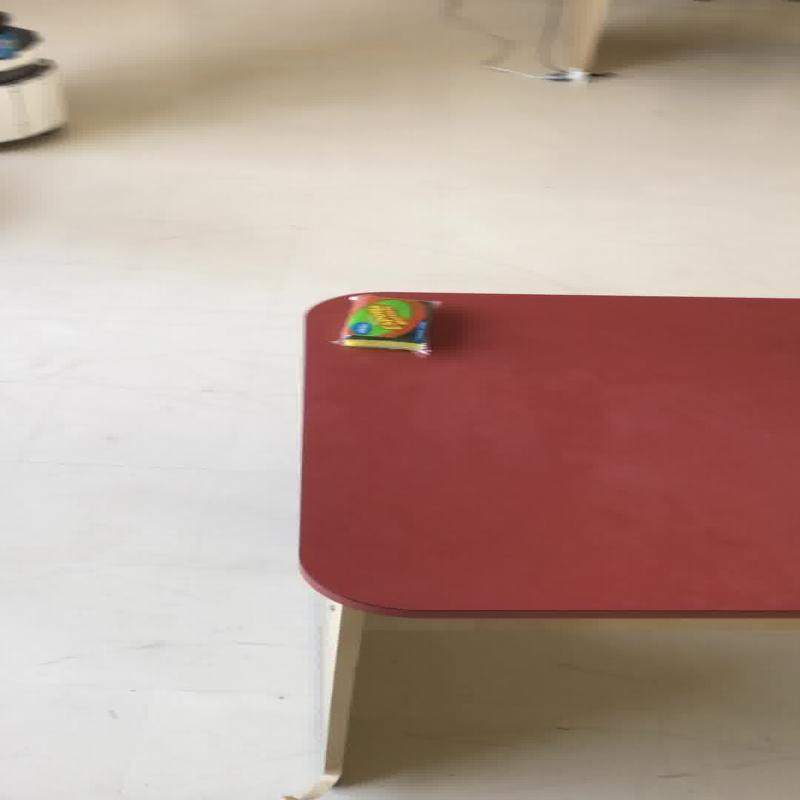sponge: (330, 294, 442, 354)
